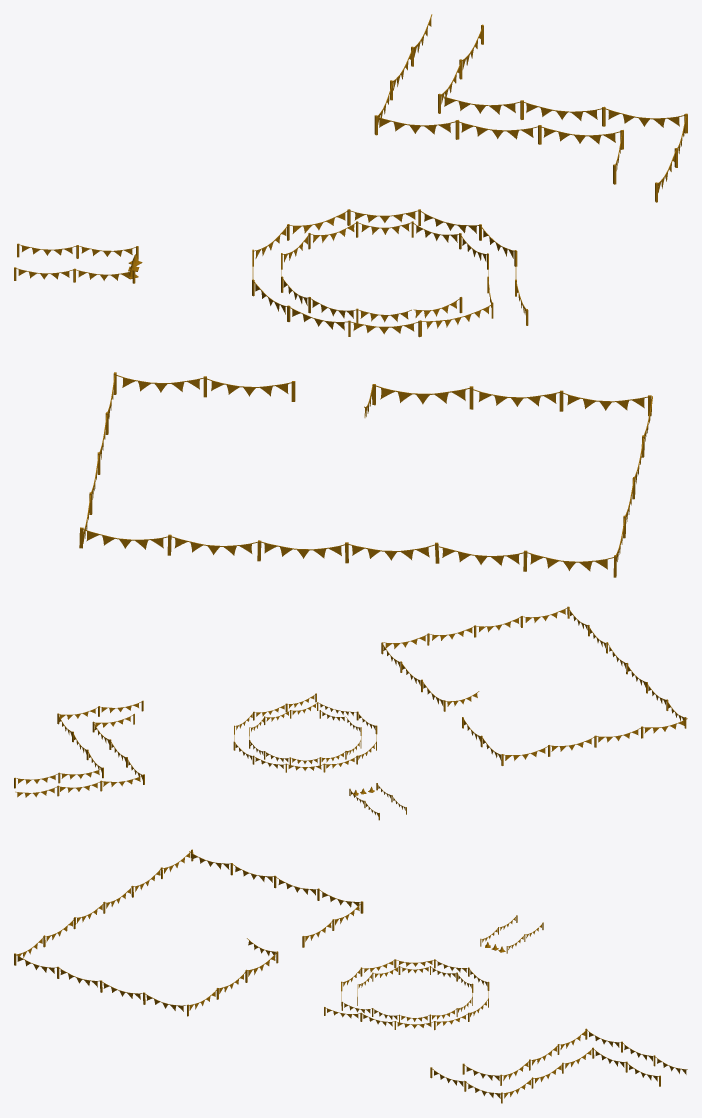
The model's file is Queues.fbx.
3 views of the same model, one above another, from view 1: azimuth 30°, elevation 25°; view 2: azimuth 150°, elevation 25°; view 3: azimuth 270°, elevation 25° (orthographic). The views are drawn at different scales.
Visible parts, largest first — view 1: BumperCarQueues, CarouselQueue, RollerCoasterQueue, FerrisQueue; view 2: BumperCarQueues, CarouselQueue, RollerCoasterQueue; view 3: BumperCarQueues, CarouselQueue, RollerCoasterQueue.
Boxes of the visible parts, bbox=[...] form: BumperCarQueues: bbox=[79, 372, 652, 577]; CarouselQueue: bbox=[252, 209, 528, 337]; RollerCoasterQueue: bbox=[374, 14, 687, 202]; FerrisQueue: bbox=[14, 243, 138, 283]; BumperCarQueues: bbox=[381, 606, 687, 765]; CarouselQueue: bbox=[233, 693, 377, 772]; RollerCoasterQueue: bbox=[14, 700, 144, 797]; BumperCarQueues: bbox=[14, 849, 363, 1016]; CarouselQueue: bbox=[324, 959, 489, 1030]; RollerCoasterQueue: bbox=[430, 1028, 687, 1103].
Bounding box in the file's own units: 54.36 × 1.77 × 64.26.
